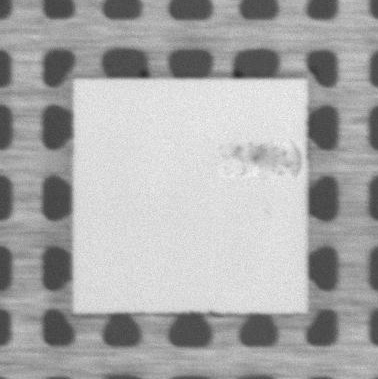DIE_INK: (212, 137, 303, 181)
